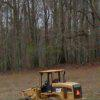Tractor: (23, 62, 77, 100)
